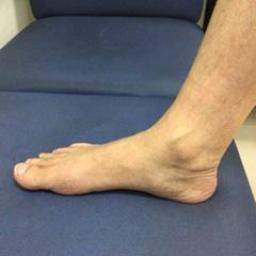Medial View -Right Foot-: (10, 76, 242, 206)
